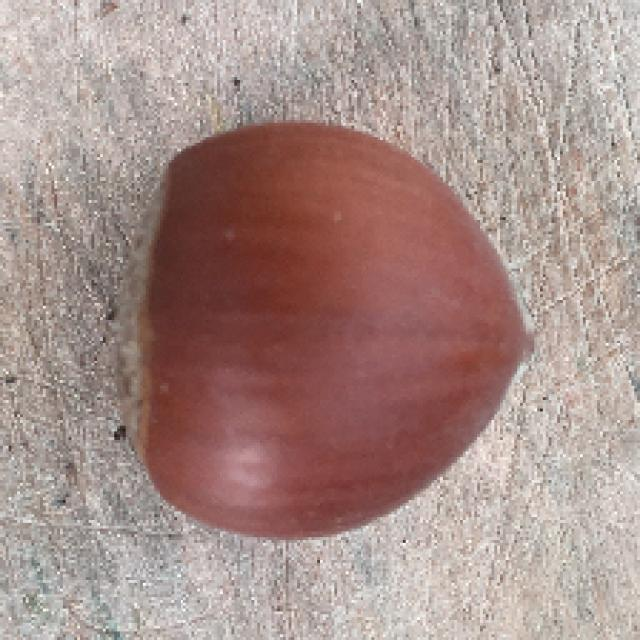damagedHazelnut: (126, 111, 532, 539)
